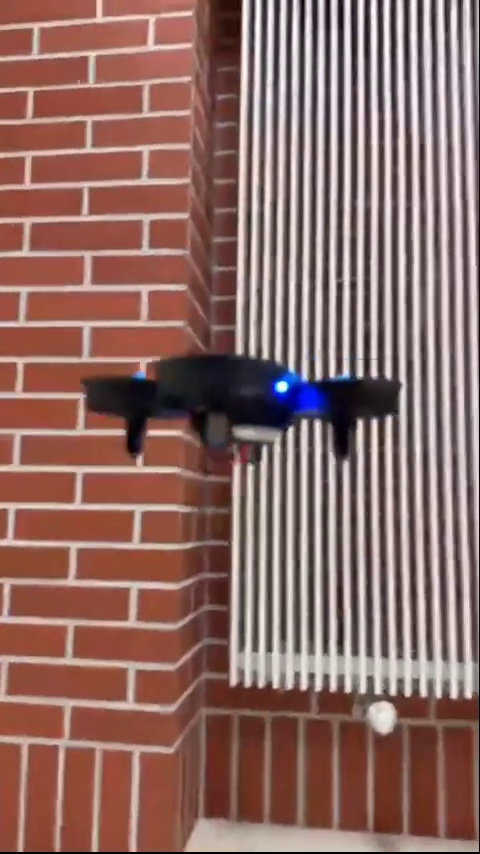drone: (78, 358, 399, 458)
